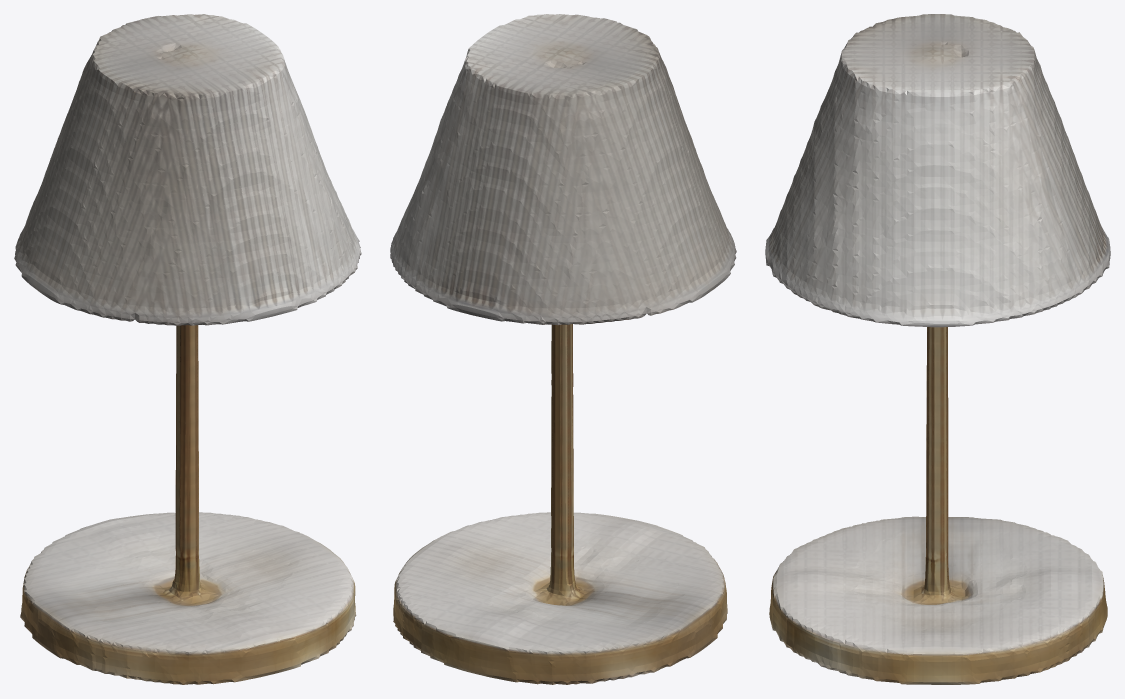
The picture shows the model from 3 angles, left to right: view 1: azimuth 30°, elevation 25°; view 2: azimuth 150°, elevation 25°; view 3: azimuth 270°, elevation 25°; orthographic projection.
Visible parts, largest first — view 1: input.obj; view 2: input.obj; view 3: input.obj.
Part boxes in pixels (x1=…): input.obj: x1=14, y1=14, x2=361, y2=684; input.obj: x1=390, y1=14, x2=736, y2=684; input.obj: x1=765, y1=14, x2=1110, y2=684.
Size of the model in its own units: 0.5585 by 1 by 0.5562.
1 material, 1 textured.
